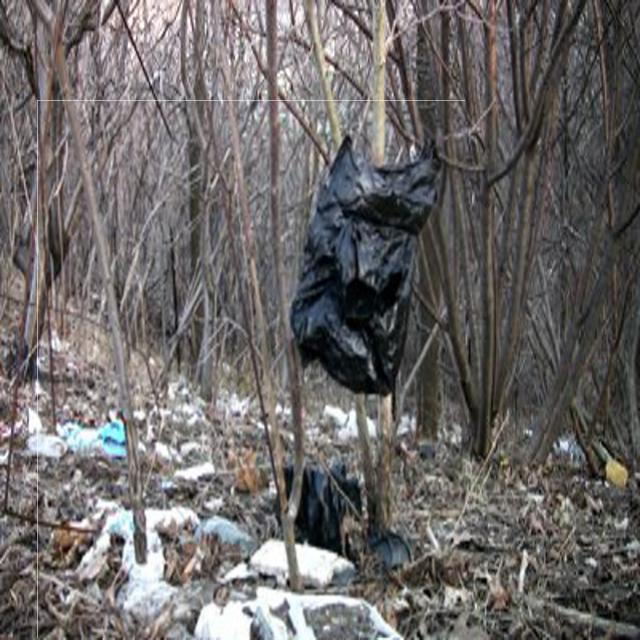Trashbag: (288, 154, 421, 400)
